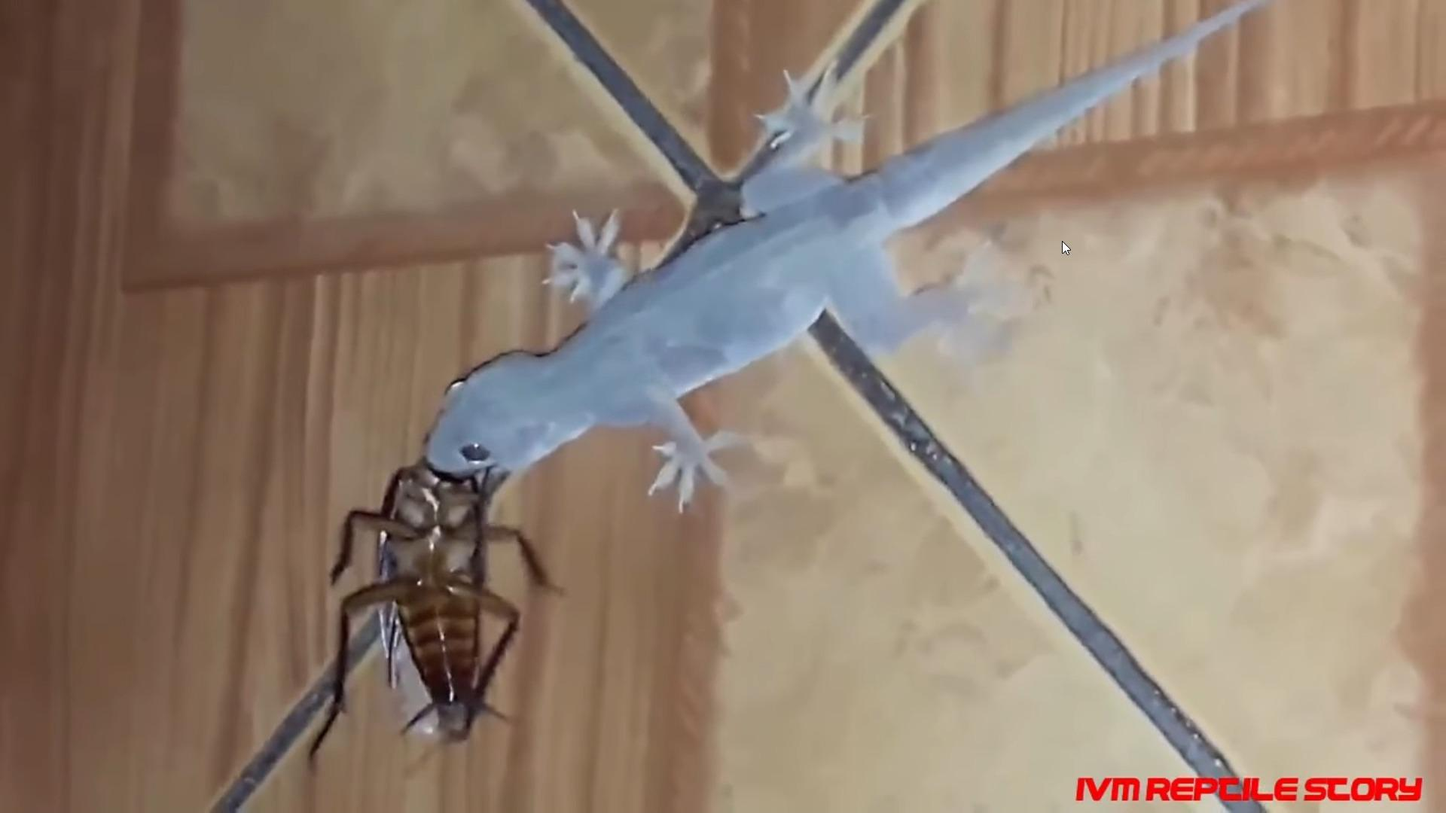cockroach: (333, 488, 553, 761)
lizard: (393, 53, 1167, 555)
